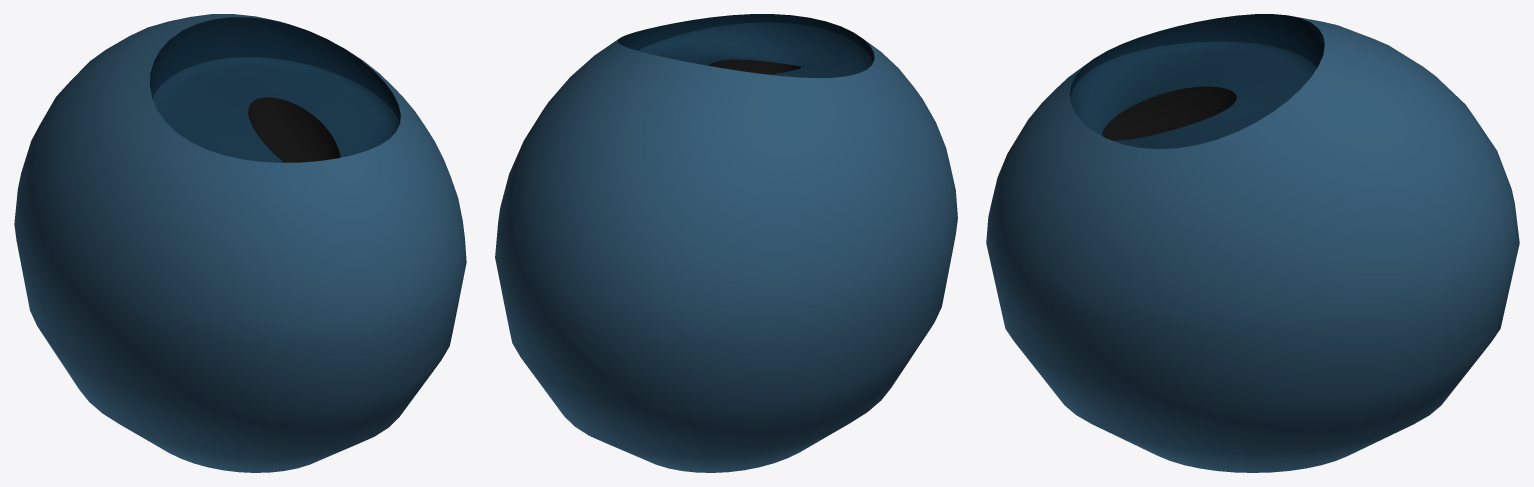
Rendered from newsh5-127-f3.glb.
The picture shows the model from 3 angles, left to right: view 1: azimuth 30°, elevation 25°; view 2: azimuth 150°, elevation 25°; view 3: azimuth 270°, elevation 25°; orthographic projection. The views are drawn at different scales.
Visible parts, largest first — view 1: newsh5-127-f3; view 2: newsh5-127-f3; view 3: newsh5-127-f3.
Part boxes in pixels (<box>): newsh5-127-f3: <box>14,14,466,472</box>; newsh5-127-f3: <box>495,14,957,472</box>; newsh5-127-f3: <box>986,14,1519,472</box>.
Size of the model in its own units: 1.58 by 1.64 by 1.92.
